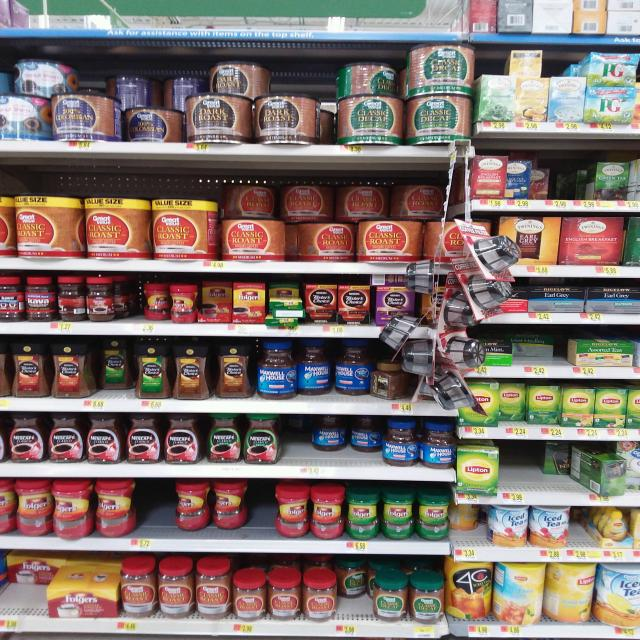unorganised: (224, 176, 452, 221), (495, 559, 598, 624), (295, 345, 410, 400), (544, 439, 626, 496), (171, 479, 247, 540), (88, 63, 197, 98), (313, 415, 386, 466), (116, 99, 189, 142), (1, 558, 51, 614), (336, 58, 409, 95), (286, 222, 357, 260), (190, 62, 270, 95), (4, 59, 77, 95), (92, 345, 138, 397), (335, 568, 377, 622), (507, 158, 552, 198), (264, 283, 302, 329), (597, 157, 635, 201), (512, 338, 573, 365), (453, 505, 490, 549), (198, 280, 235, 321), (56, 276, 83, 319), (499, 383, 528, 423), (142, 284, 170, 323)
